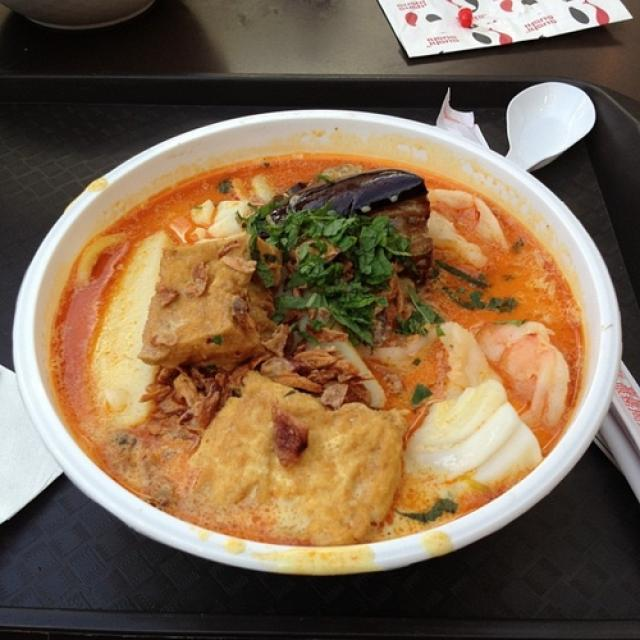面条主食: (27, 55, 617, 597)
